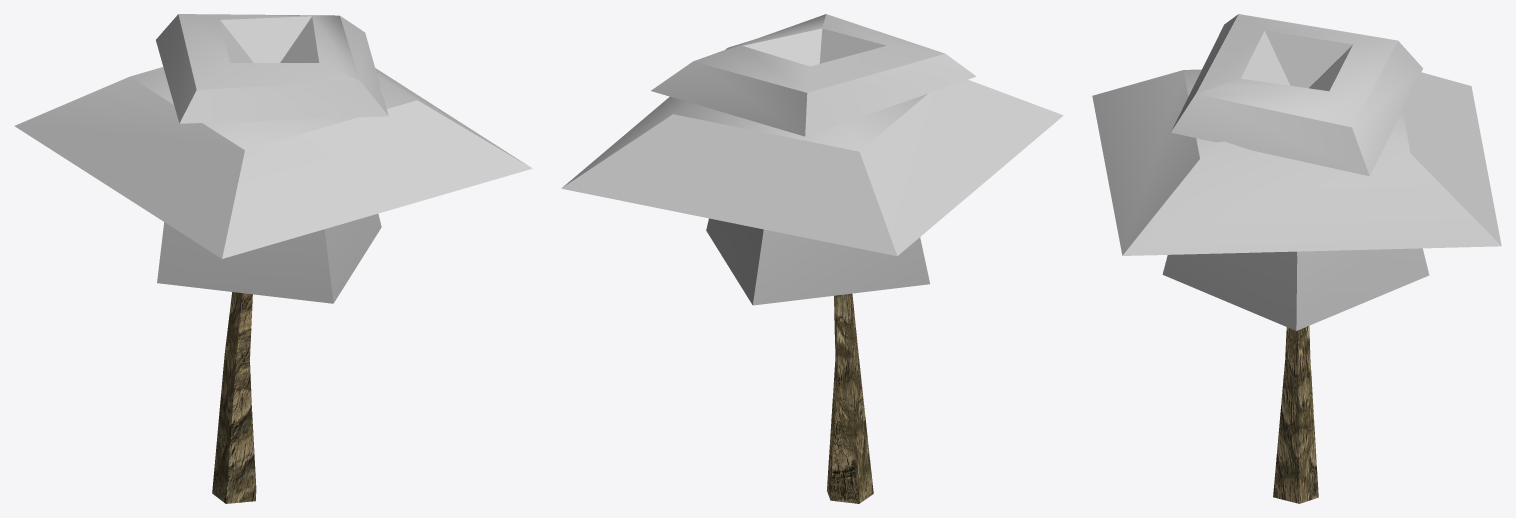
Rendered from bowlpalm2.FBX.
3 views of the same model, side by side, from view 1: azimuth 30°, elevation 25°; view 2: azimuth 150°, elevation 25°; view 3: azimuth 270°, elevation 25° (orthographic). The views are drawn at different scales.
Visible parts, largest first — view 1: Leaves__2, Trunk; view 2: Leaves__2, Trunk; view 3: Leaves__2, Trunk.
Part boxes in pixels (bbox=[...]): Leaves__2: bbox=[14, 14, 532, 303]; Trunk: bbox=[212, 292, 256, 503]; Leaves__2: bbox=[561, 14, 1063, 305]; Trunk: bbox=[827, 293, 873, 503]; Leaves__2: bbox=[1092, 14, 1501, 330]; Trunk: bbox=[1273, 326, 1318, 503].
Bounding box in the file's own units: 18.41 × 23 × 18.76.
